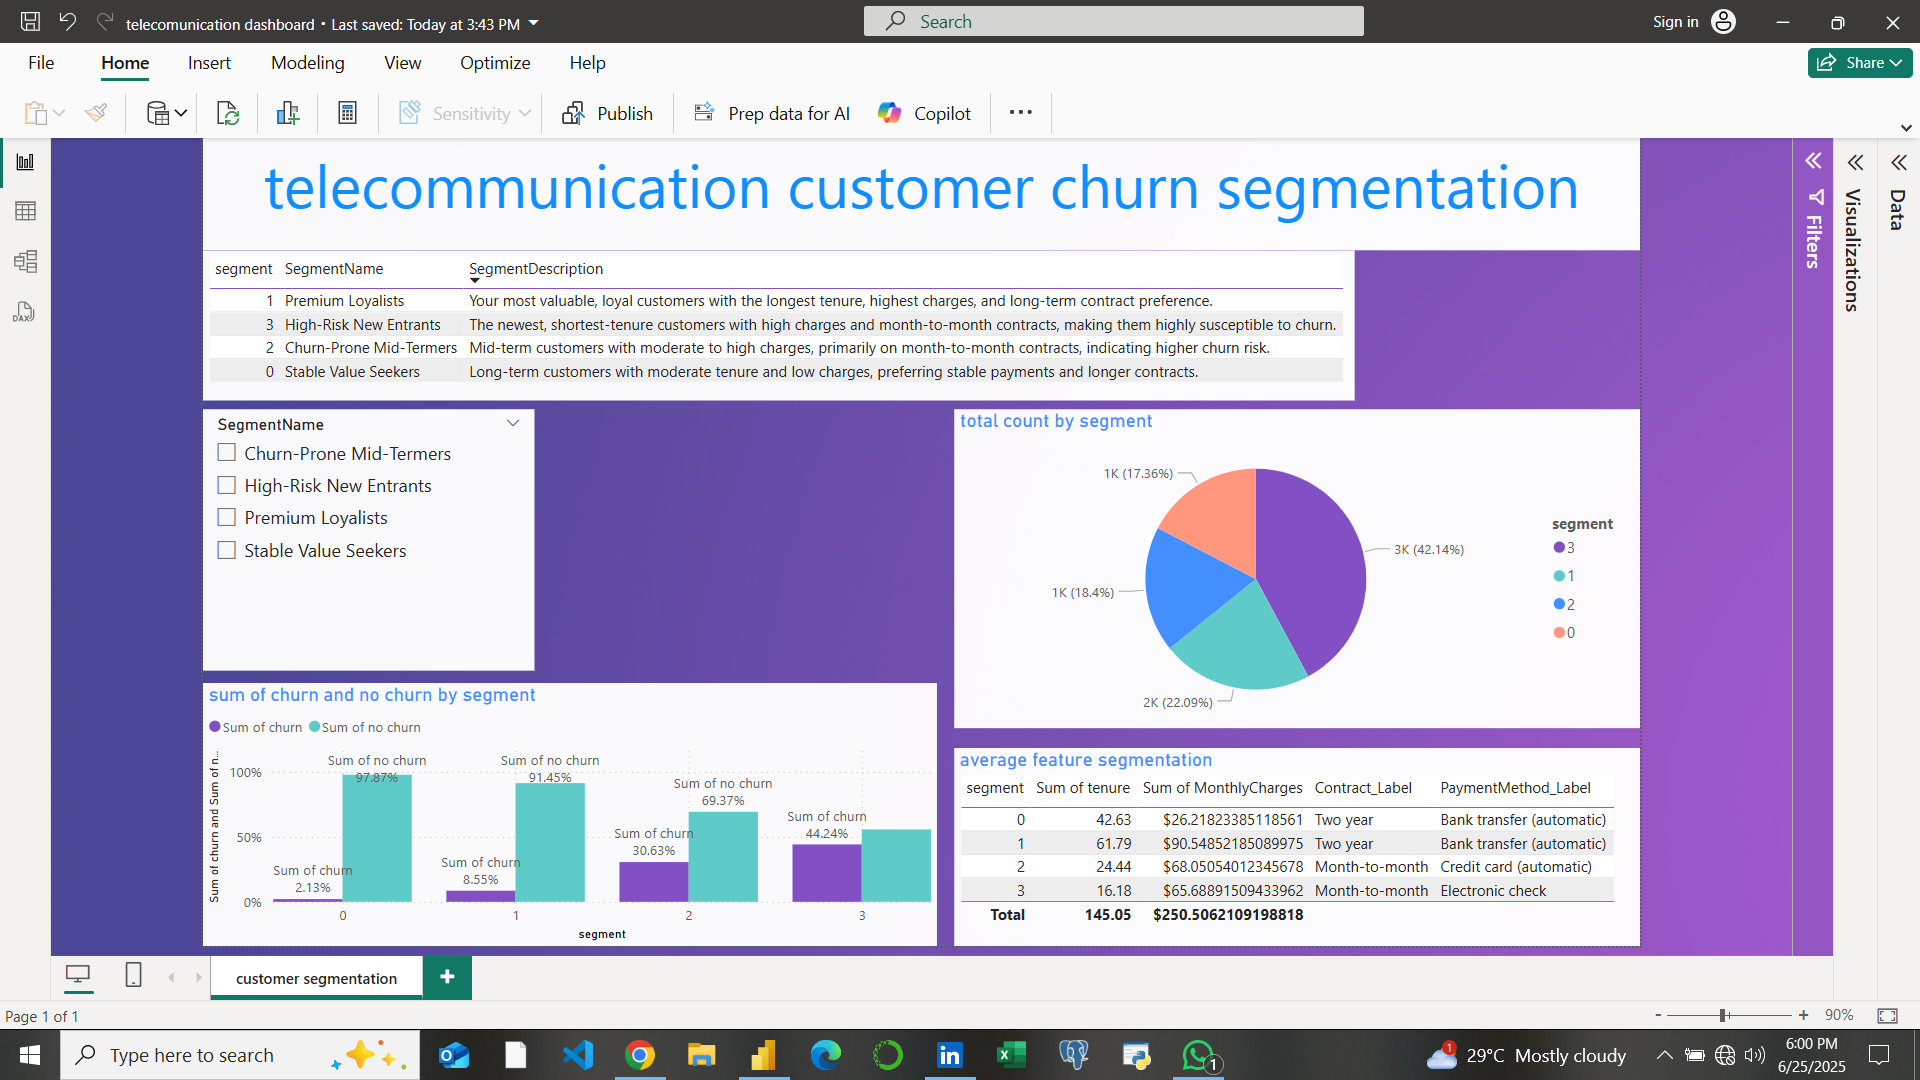

Layout of this report page (visuals, bound fields, positions):
{"tool":"powerbi","page":{"name":"Page 1","canvas":[1280,720],"ordinal":0},"visuals":[{"type":"textbox","box":[0,0,1280.3,100.2],"z":0},{"type":"tableEx","fields":{"Values":["telco_customer_segmentation (2).segment","telco_customer_segmentation (2).SegmentName","telco_customer_segmentation (2).SegmentDescription"]},"box":[0,100,1025.6,133.7],"z":1000},{"type":"tableEx","title":"average feature segmentation","fields":{"Values":["average_segment_feature (2).segment","Sum(average_segment_feature (2).tenure)","Sum(average_segment_feature (2).MonthlyCharges)","average_segment_feature (2).Contract_Label","average_segment_feature (2).PaymentMethod_Label"]},"box":[668.6,543,611.6,176.7],"z":2000},{"type":"clusteredColumnChart","title":"sum of churn and no churn by segment","fields":{"Category":["churn_by_segment (2).segment"],"Y":["Sum(churn_by_segment (2).Yes)","Sum(churn_by_segment (2).No)"]},"box":[0,484.9,653.5,234.9],"z":4000},{"type":"pieChart","fields":{"Category":["segment_value_count (2).segment"],"Y":["segment_value_count (2).Measure"]},"box":[668.6,241.9,611.6,283.7],"z":4001},{"type":"slicer","fields":{"Values":["telco_customer_segmentation (2).SegmentName"]},"box":[0,241.9,295.3,232.6],"z":4002}]}

Visuals, with their boxes on the page's 1280x720 design canvas (x1, y1, x2, y2). These are canvas units, not pixel positions in the 1920x1080 screenshot, which may show the page scaled, cropped or inside an application window:
textbox: select_region(0, 0, 1280, 100)
tableEx - telco_customer_segmentation (2).segment x telco_customer_segmentation (2).SegmentName: select_region(0, 100, 1026, 234)
"average feature segmentation" tableEx: select_region(669, 543, 1280, 720)
"sum of churn and no churn by segment" clusteredColumnChart: select_region(0, 485, 654, 720)
pieChart - segment_value_count (2).segment x segment_value_count (2).Measure: select_region(669, 242, 1280, 526)
slicer - telco_customer_segmentation (2).SegmentName: select_region(0, 242, 295, 474)
